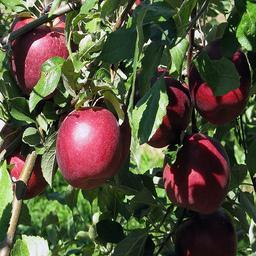apple: (54, 106, 123, 190), (161, 133, 229, 213), (190, 44, 250, 124), (136, 67, 193, 148), (8, 18, 69, 89), (9, 146, 57, 200)
